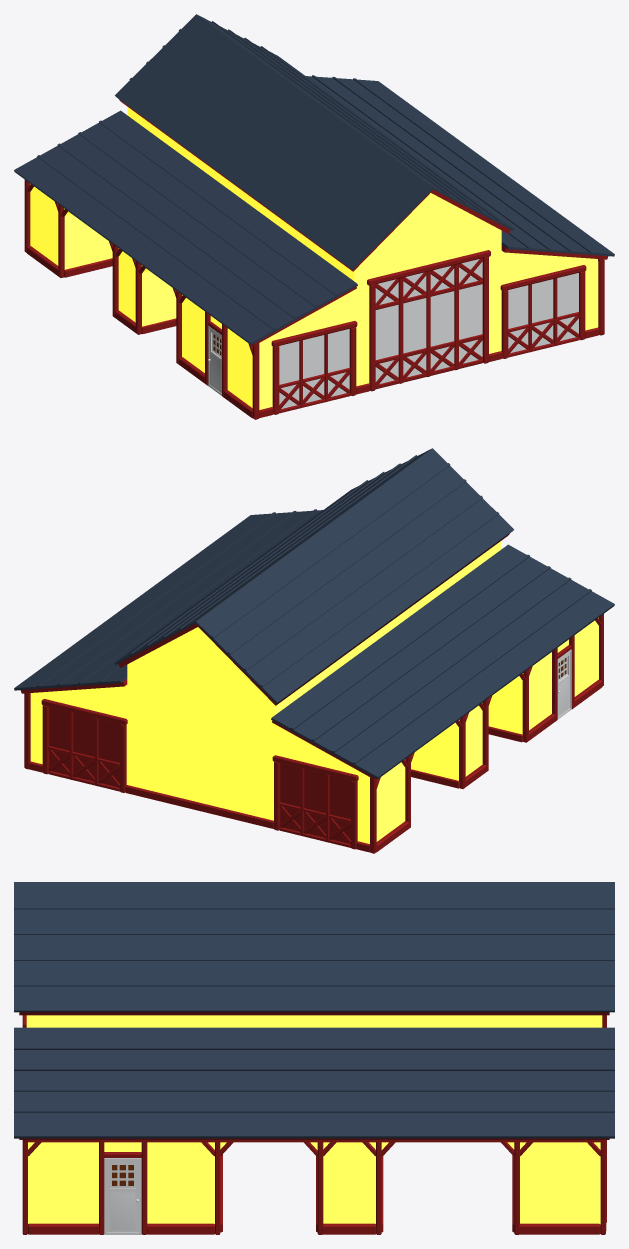
The model's file is barn.glb.
3 views of the same model, one above another, from view 1: azimuth 30°, elevation 25°; view 2: azimuth 150°, elevation 25°; view 3: azimuth 270°, elevation 25° (orthographic). The views are drawn at different scales.
Visible parts, largest first — view 1: farmbuilding_01.001; view 2: farmbuilding_01.001; view 3: farmbuilding_01.001.
Part boxes in pixels (box(x1,y1,x2,y2)): farmbuilding_01.001: box(14, 14, 614, 419); farmbuilding_01.001: box(14, 448, 614, 853); farmbuilding_01.001: box(14, 882, 614, 1234).
Bounding box in the file's own units: 14.84 × 7.51 × 16.7.
